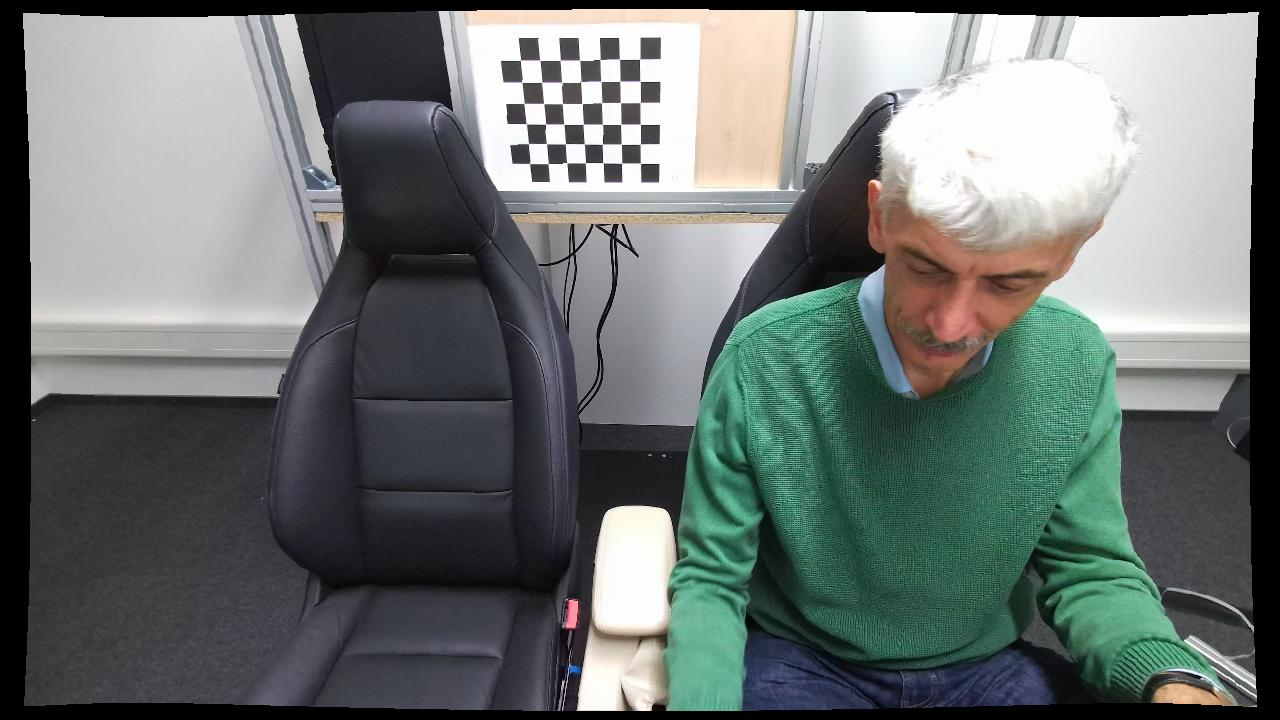Distracted: (662, 52, 1169, 710)
